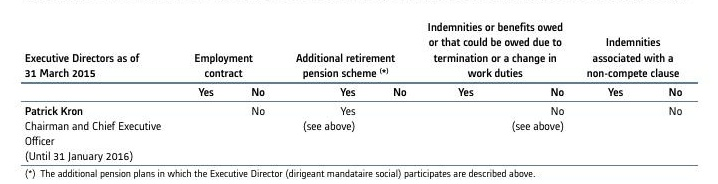table: (0, 0, 718, 184)
